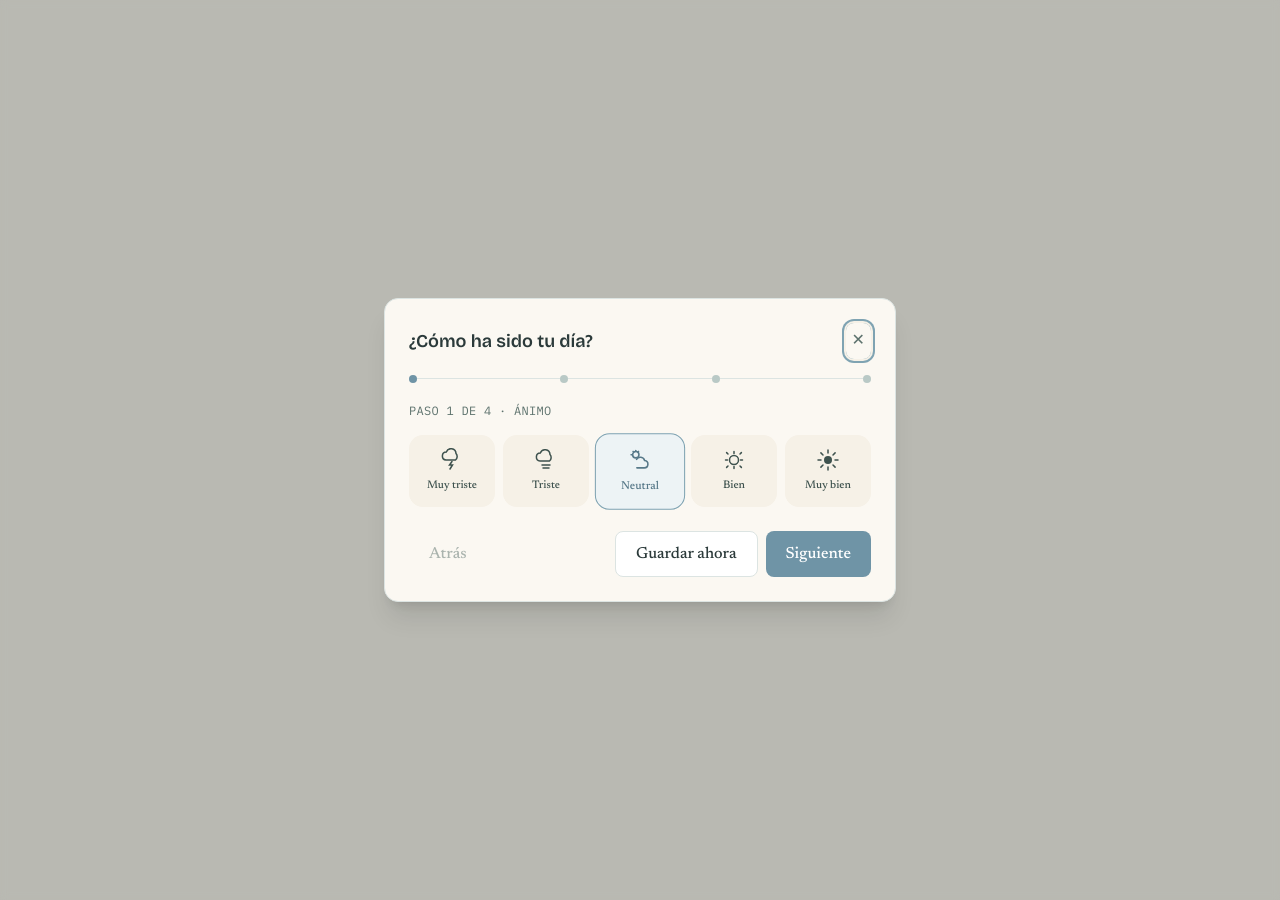
Test: DailyLogModal › lets the user submit from any step via "Guardar ahora", not just the last one
The width and height of the screenshot is (1280, 900).
Still on step 1 (Ánimo) — only mood is required per the daily-log design.
Click the button "Guardar ahora": (686, 554) 615,531 -> 758,577
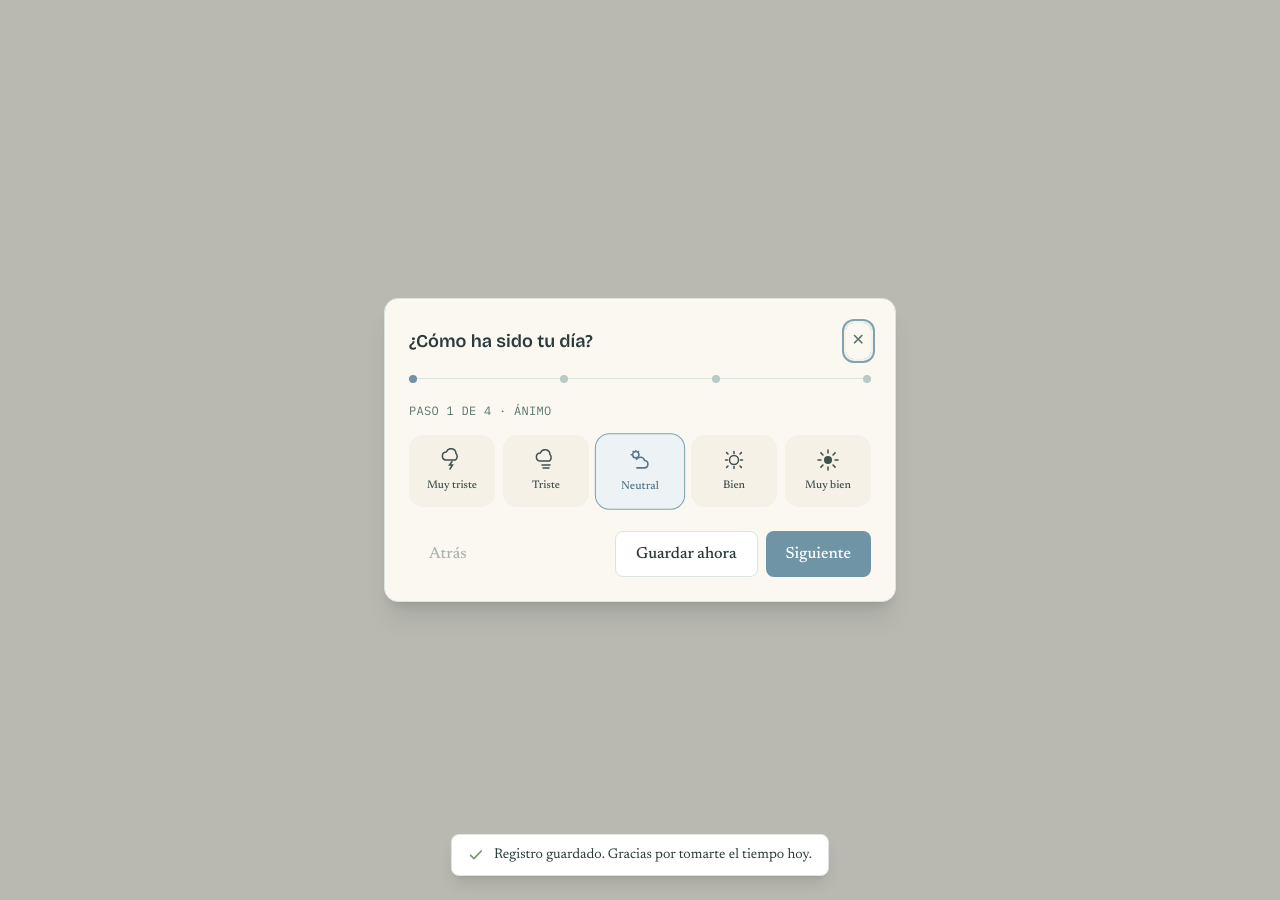
Result: the message shows "Gracias por tomarte el tiempo" at 494,848 -> 812,862
